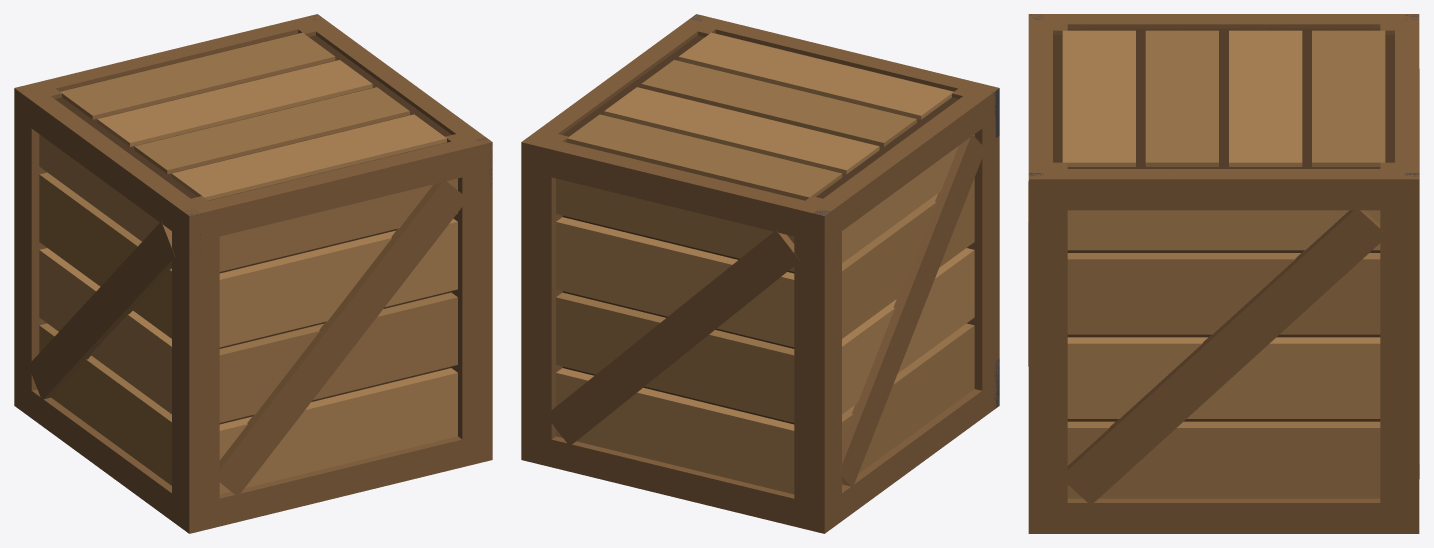
File: crate.glb
3 renders of one model, left to right at view 1: azimuth 30°, elevation 25°; view 2: azimuth 150°, elevation 25°; view 3: azimuth 270°, elevation 25°, orthographic. The views are drawn at different scales.
Visible parts, largest first — view 1: crate_detail, crate_core-col; view 2: crate_detail, crate_core-col; view 3: crate_detail, crate_core-col.
Boxes of the visible parts, <box> form: crate_detail: <box>14,14,492,533</box>; crate_core-col: <box>55,33,451,424</box>; crate_detail: <box>521,14,999,533</box>; crate_core-col: <box>562,33,958,424</box>; crate_detail: <box>1028,14,1419,533</box>; crate_core-col: <box>1053,28,1394,421</box>.
Bounding box in the file's own units: 0.8 × 0.8 × 0.8.
